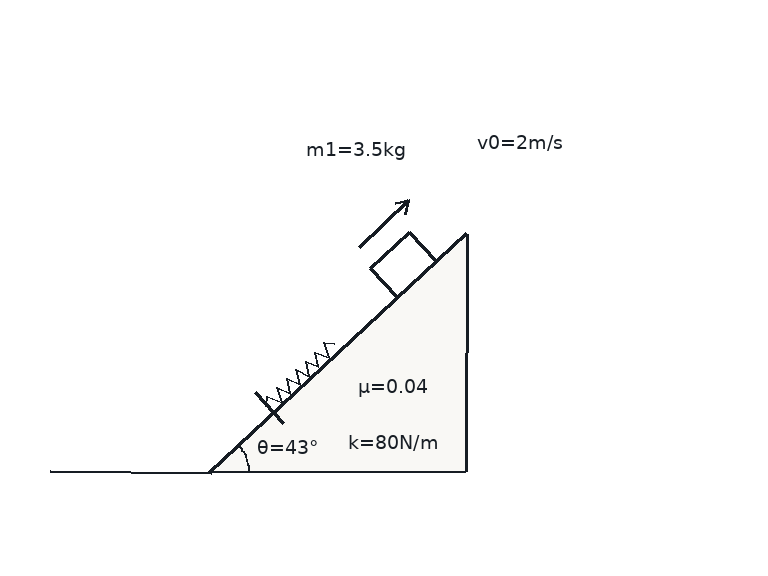block: (368, 230, 438, 299)
ramp: (207, 231, 468, 474)
spring: (265, 341, 336, 408)
